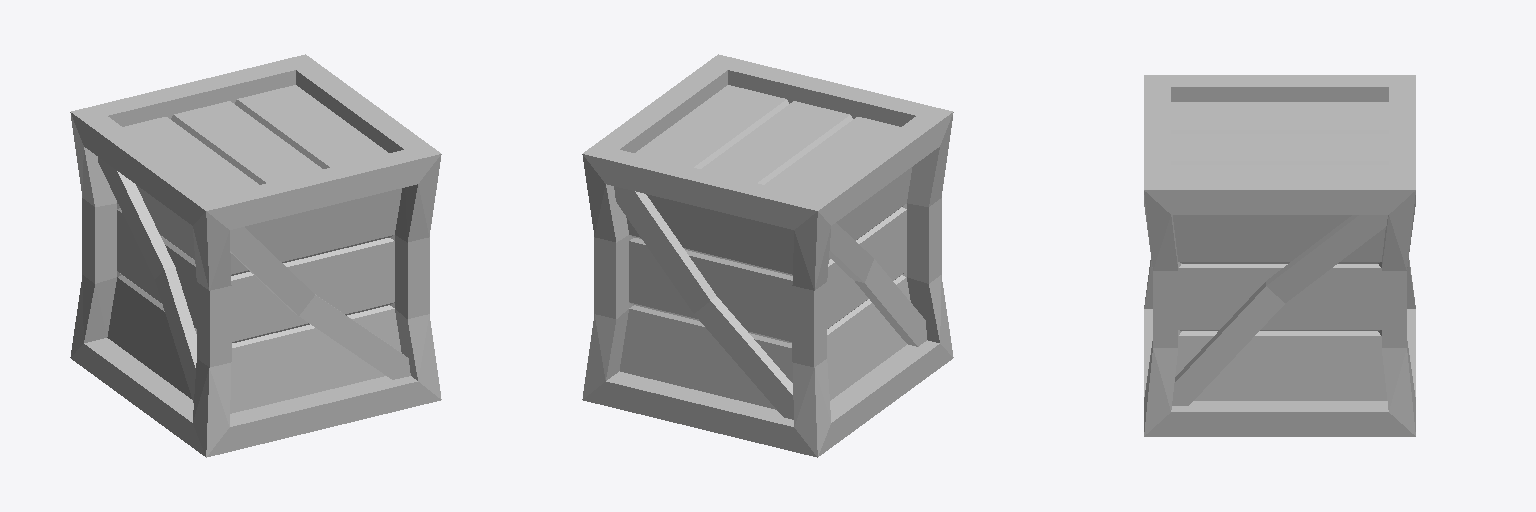
The model's file is crate.obj.
3 views of the same model, side by side, from view 1: azimuth 30°, elevation 25°; view 2: azimuth 150°, elevation 25°; view 3: azimuth 270°, elevation 25° (orthographic).
Parts seen in each view (by area): view 1: Crate.001_Cube.005; view 2: Crate.001_Cube.005; view 3: Crate.001_Cube.005.
Part boxes in pixels (bbox=[...]): Crate.001_Cube.005: bbox=[70, 54, 441, 457]; Crate.001_Cube.005: bbox=[582, 54, 953, 457]; Crate.001_Cube.005: bbox=[1144, 75, 1415, 436].
Bounding box in the file's own units: 1 × 1 × 1.